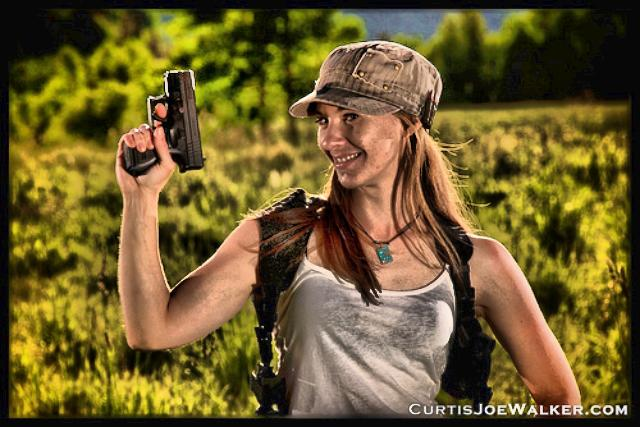pistol: (122, 67, 202, 173)
